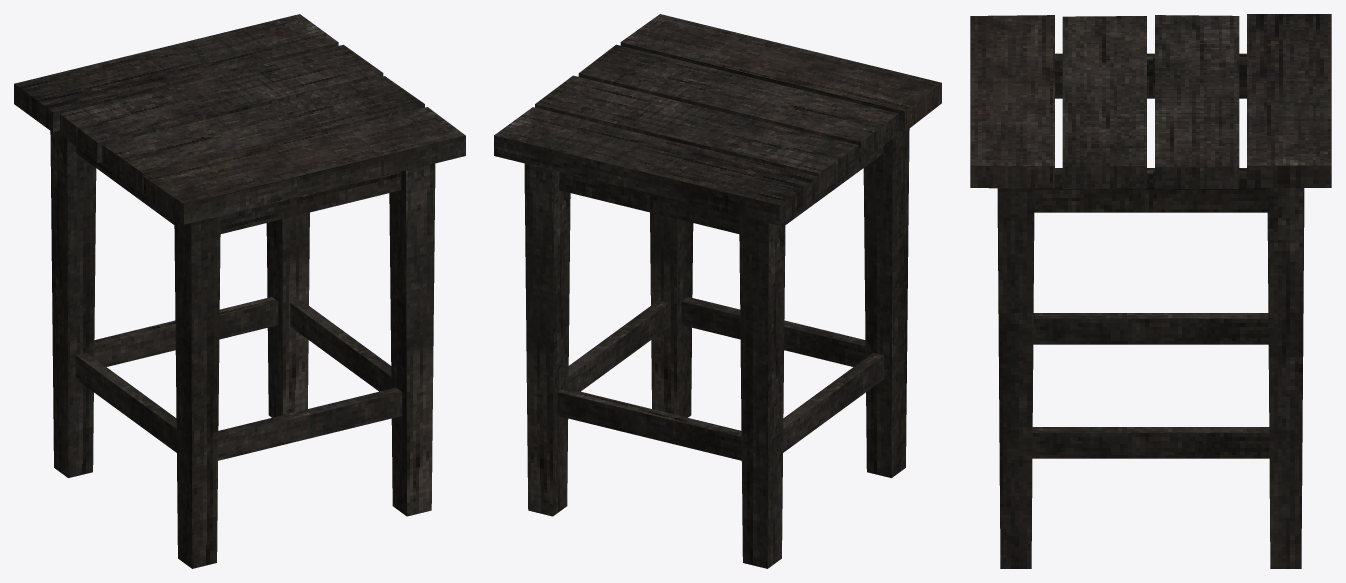
Rendered from chair_mp_1.glb.
3 views of the same model, side by side, from view 1: azimuth 30°, elevation 25°; view 2: azimuth 150°, elevation 25°; view 3: azimuth 270°, elevation 25° (orthographic). The views are drawn at different scales.
Parts seen in each view (by area): view 1: chair_mp_1; view 2: chair_mp_1; view 3: chair_mp_1.
Part boxes in pixels (x1=…): chair_mp_1: x1=14, y1=14, x2=465, y2=568; chair_mp_1: x1=494, y1=14, x2=941, y2=568; chair_mp_1: x1=970, y1=14, x2=1331, y2=568.
Bounding box in the file's own units: 0.4707 × 0.594 × 0.47.
1 material, 1 textured.
